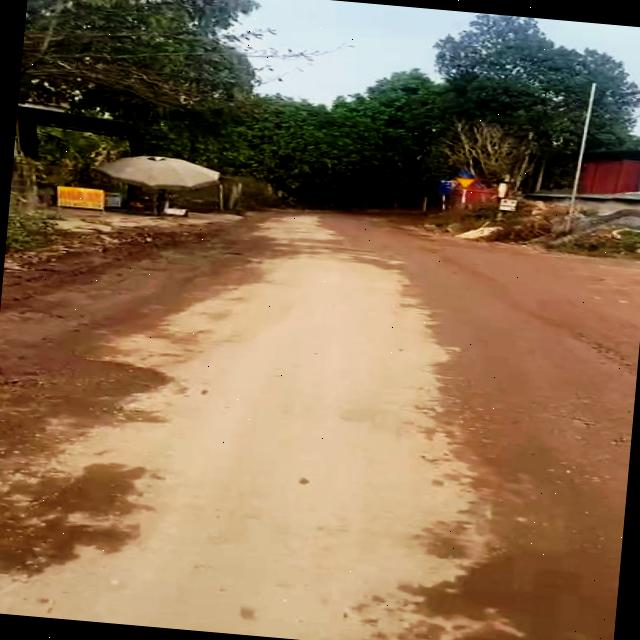pothole: (0, 347, 186, 406)
